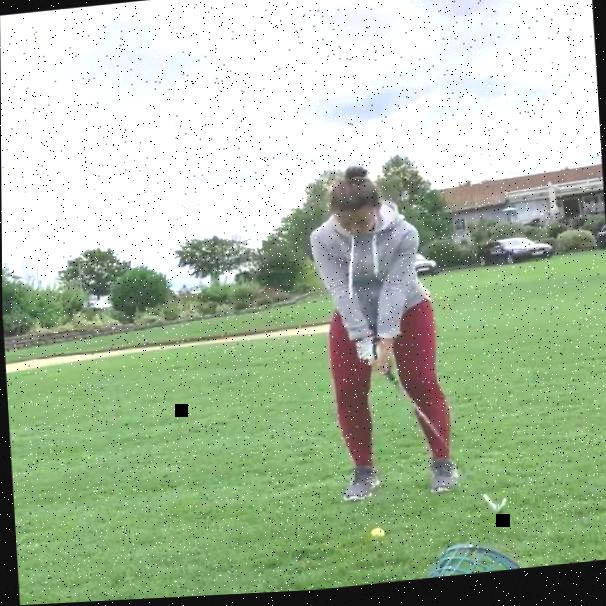ClubHead: (491, 500, 509, 521)
GolfBall: (370, 528, 384, 545)
